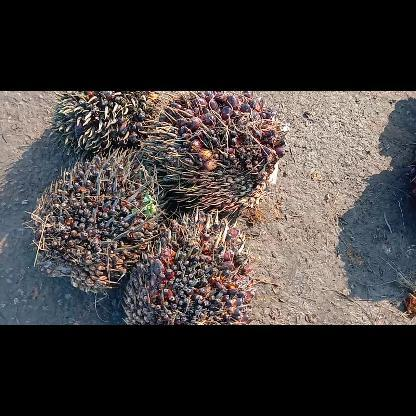TBS abnormal: (28, 144, 166, 296), (119, 204, 263, 324), (47, 91, 164, 161)
TBS masak: (138, 92, 290, 218)
